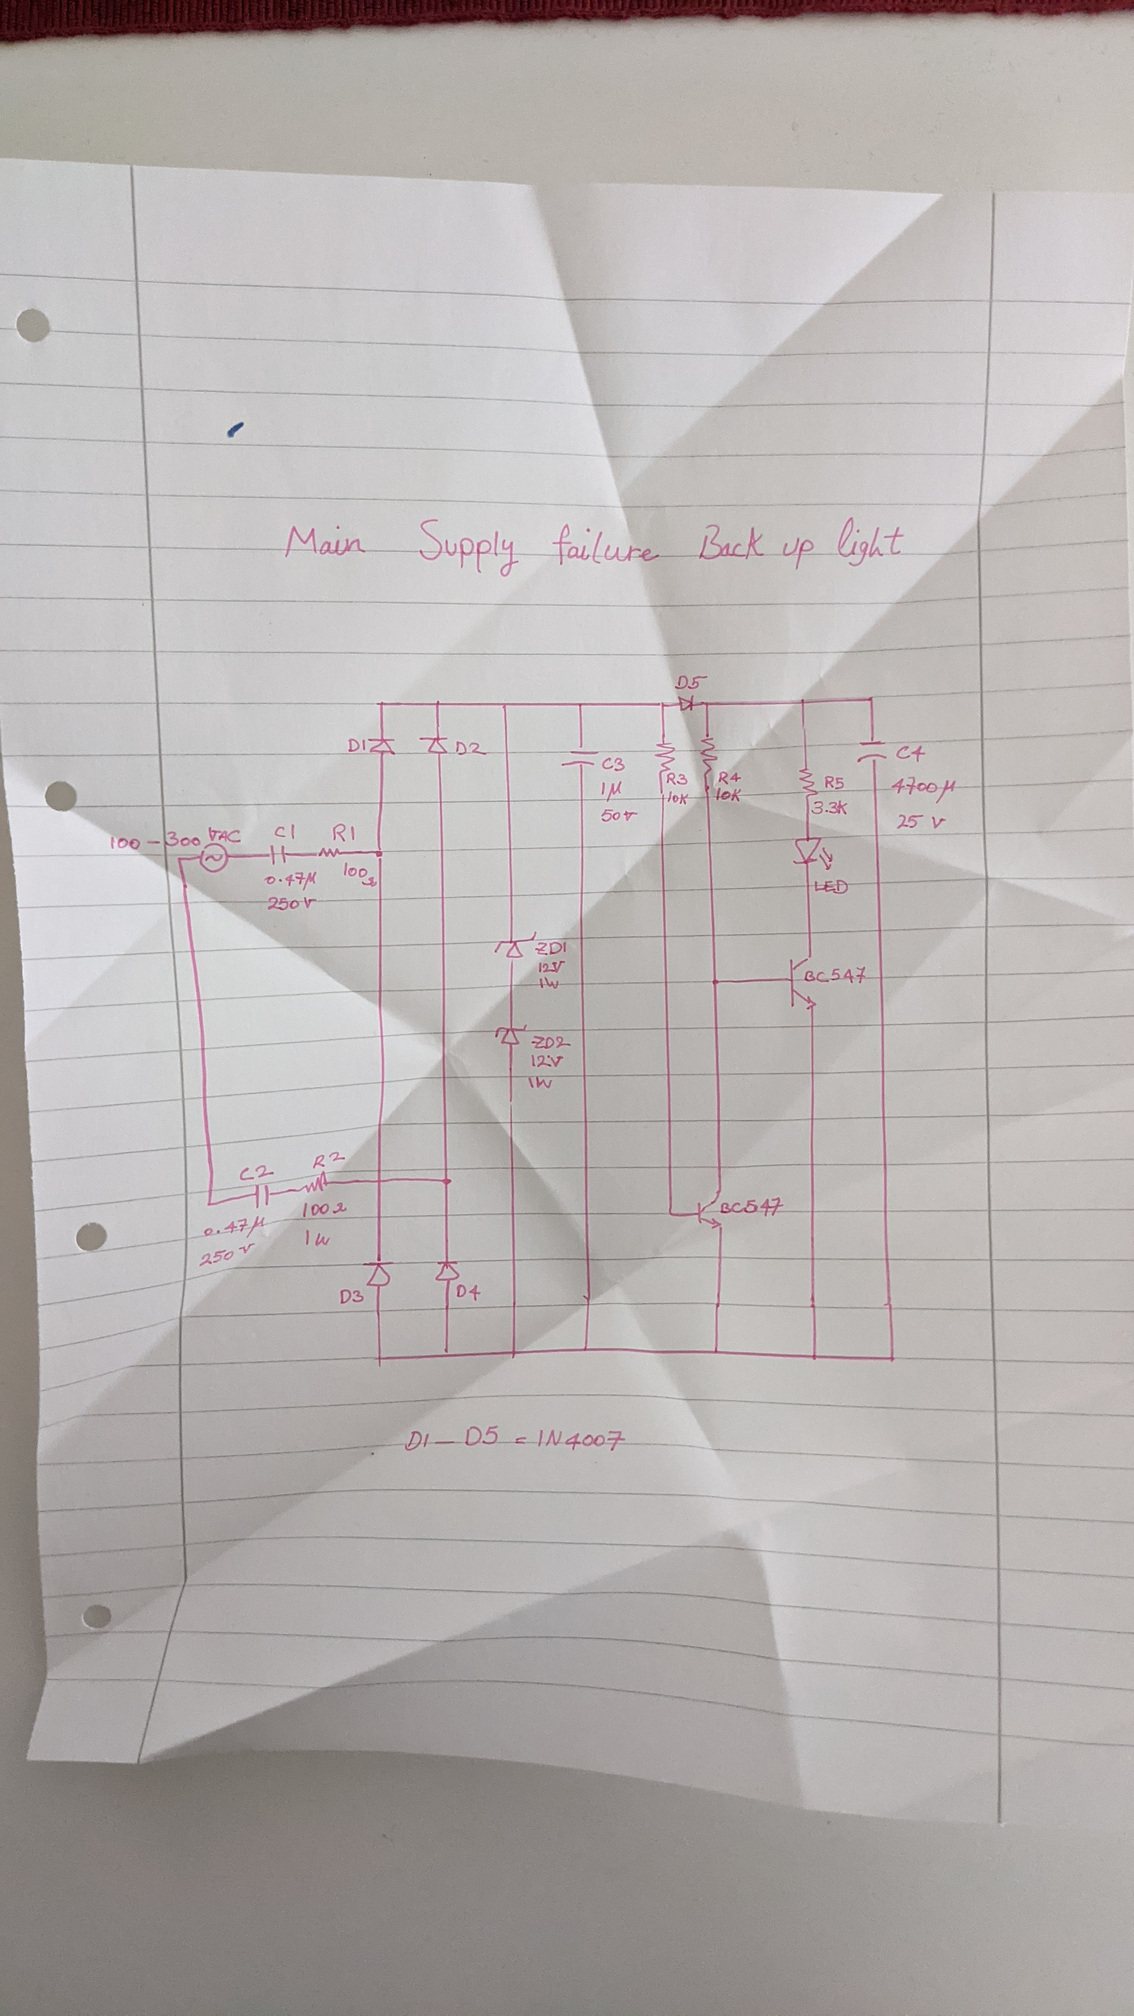capacitor.unpolarized: (559, 744, 601, 771), (856, 738, 890, 766), (252, 1182, 274, 1212), (264, 842, 289, 867)
crossover: (372, 1174, 386, 1188)
diode: (492, 930, 539, 962), (361, 1259, 396, 1289), (493, 1022, 529, 1048), (433, 1259, 462, 1284), (417, 735, 450, 756), (367, 737, 397, 756), (676, 694, 696, 713)
diode.light_emitting: (791, 834, 836, 872)
junction: (372, 1351, 388, 1369), (439, 1174, 456, 1189), (883, 1351, 900, 1367), (372, 845, 386, 863), (508, 1347, 523, 1362), (809, 1350, 824, 1365), (440, 1346, 454, 1361), (204, 1196, 217, 1212), (580, 1343, 594, 1357), (498, 699, 512, 712), (665, 1206, 676, 1221), (656, 701, 672, 712), (372, 699, 388, 710), (864, 695, 879, 706), (432, 698, 444, 710), (796, 696, 809, 709), (709, 976, 721, 989), (174, 854, 187, 865), (702, 698, 714, 709), (710, 1346, 721, 1357), (575, 701, 586, 710)
resistor: (698, 732, 719, 780), (294, 1170, 330, 1196), (654, 739, 678, 773), (796, 764, 820, 799), (312, 847, 343, 858)
text: (282, 514, 904, 579), (402, 1423, 627, 1452), (108, 825, 244, 852), (892, 775, 957, 804), (202, 1214, 266, 1239), (198, 1242, 258, 1267), (719, 1196, 784, 1218), (803, 965, 868, 984), (263, 870, 318, 892), (342, 861, 378, 888), (266, 894, 317, 912), (894, 813, 947, 829), (300, 1200, 348, 1218), (813, 876, 850, 896), (310, 1151, 348, 1170), (811, 798, 849, 816), (238, 1163, 276, 1181), (600, 807, 640, 824), (530, 1033, 570, 1050), (673, 673, 709, 691), (894, 744, 928, 763), (454, 739, 487, 757), (533, 940, 569, 957), (305, 1227, 332, 1248), (600, 780, 623, 803), (530, 1052, 564, 1069), (331, 822, 357, 843), (456, 1282, 482, 1303), (536, 960, 568, 976), (714, 786, 742, 804), (525, 1074, 554, 1091), (600, 755, 626, 773), (338, 1288, 366, 1304), (717, 768, 742, 786), (273, 822, 296, 840), (822, 774, 846, 791), (666, 789, 690, 806), (346, 737, 367, 753), (539, 975, 561, 990), (666, 773, 690, 786)
transistor: (786, 953, 820, 1012), (695, 1189, 727, 1232)
voltage.dc_ac: (198, 842, 231, 874)
